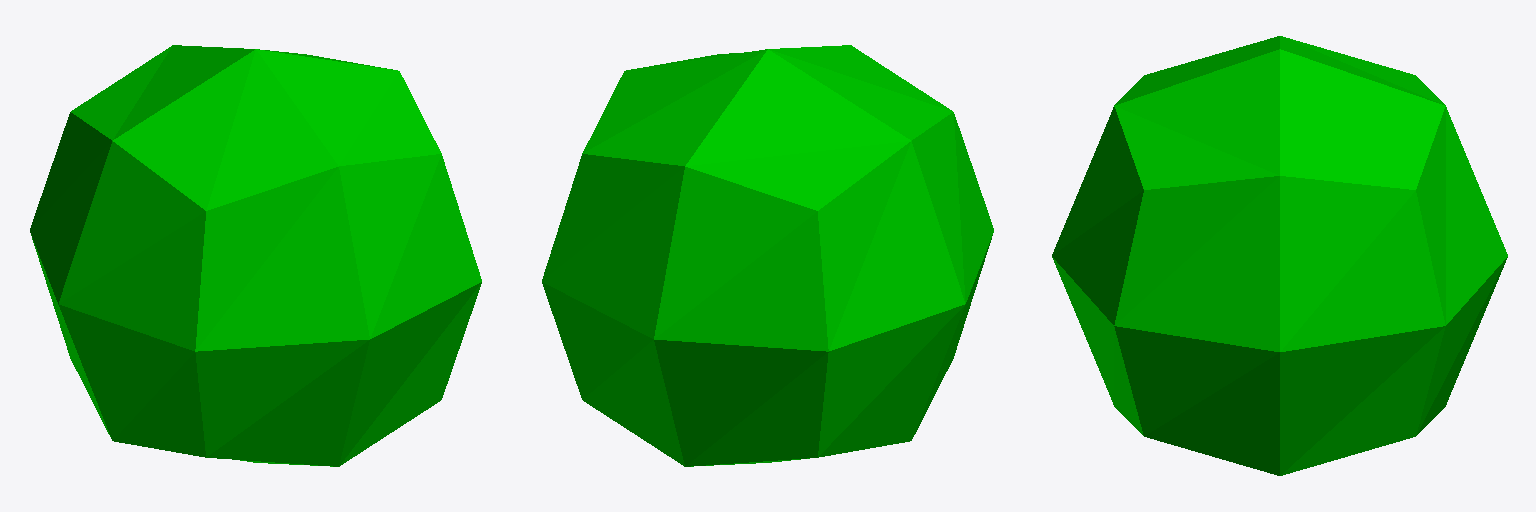
File: green_particle.obj
3 renders of one model, left to right at view 1: azimuth 30°, elevation 25°; view 2: azimuth 150°, elevation 25°; view 3: azimuth 270°, elevation 25°, orthographic.
Visible parts, largest first — view 1: Particle; view 2: Particle; view 3: Particle.
Boxes of the visible parts, box(x1,y1,x2,y2) form: Particle: box(30, 45, 481, 466); Particle: box(542, 45, 993, 466); Particle: box(1052, 36, 1507, 475).
Bounding box in the file's own units: 0.4198 × 0.4198 × 0.4198.